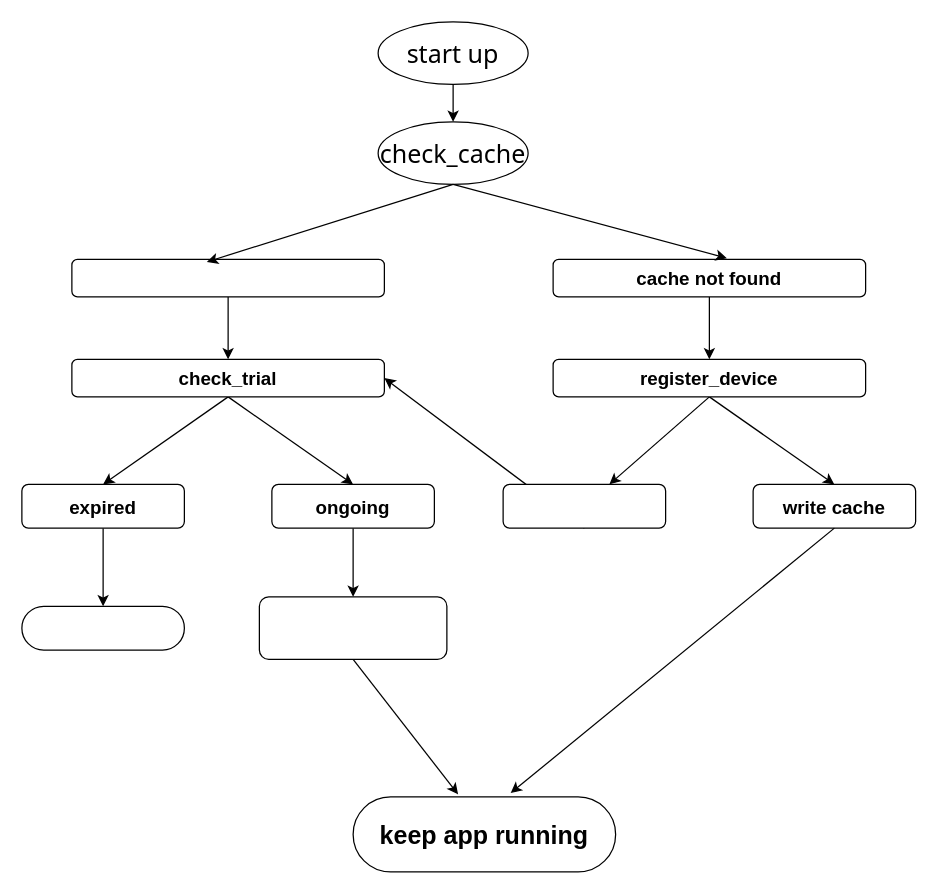
This 938x894 diagram has some shape labels left out. Each missing label, with the centre of its shape:
already exist: point 584,505
cache found: point 227,277
disable app: point 102,627
update_last c on (update cache): point 352,627
